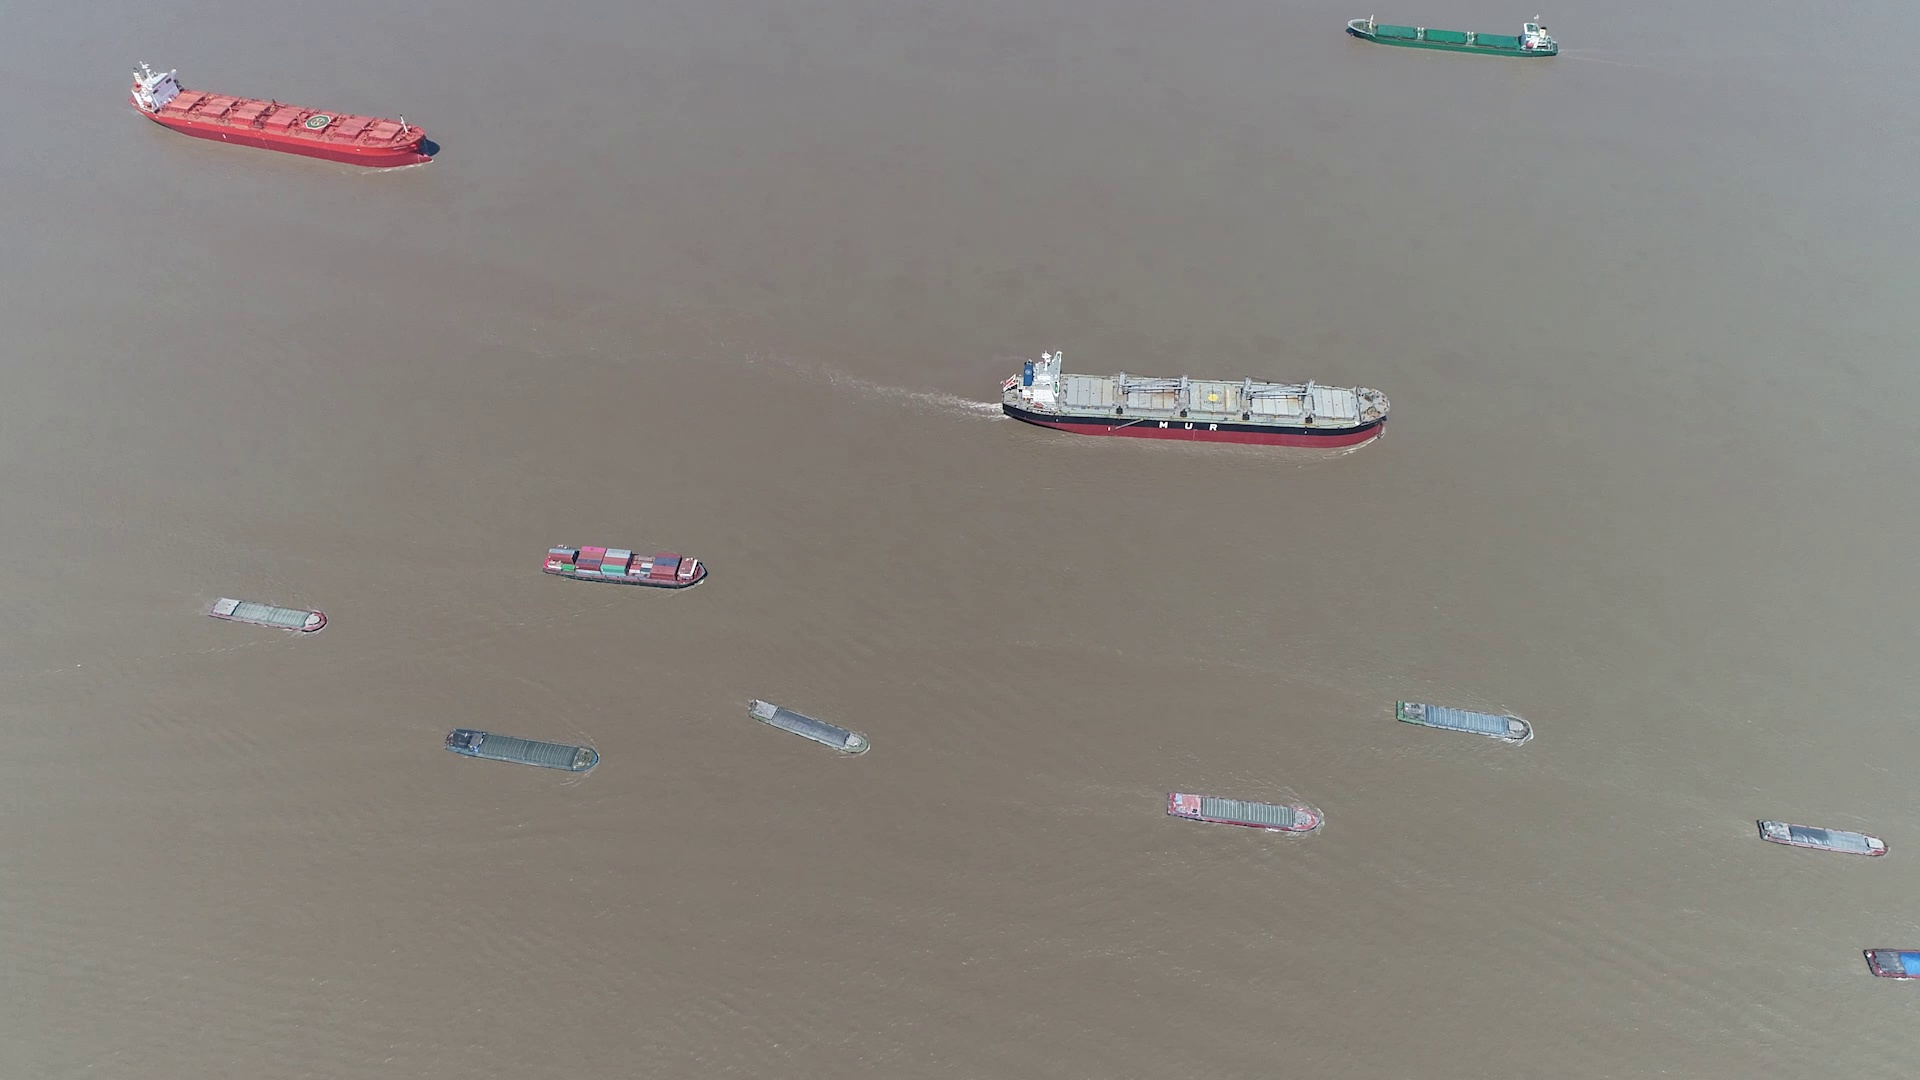ship: (1001, 353, 1386, 448), (136, 61, 436, 166), (1348, 16, 1557, 57), (748, 698, 872, 760), (543, 542, 709, 587), (446, 727, 601, 773), (1168, 793, 1323, 835), (1396, 702, 1534, 742), (1756, 819, 1888, 858), (208, 596, 328, 633), (1865, 947, 1920, 982)
